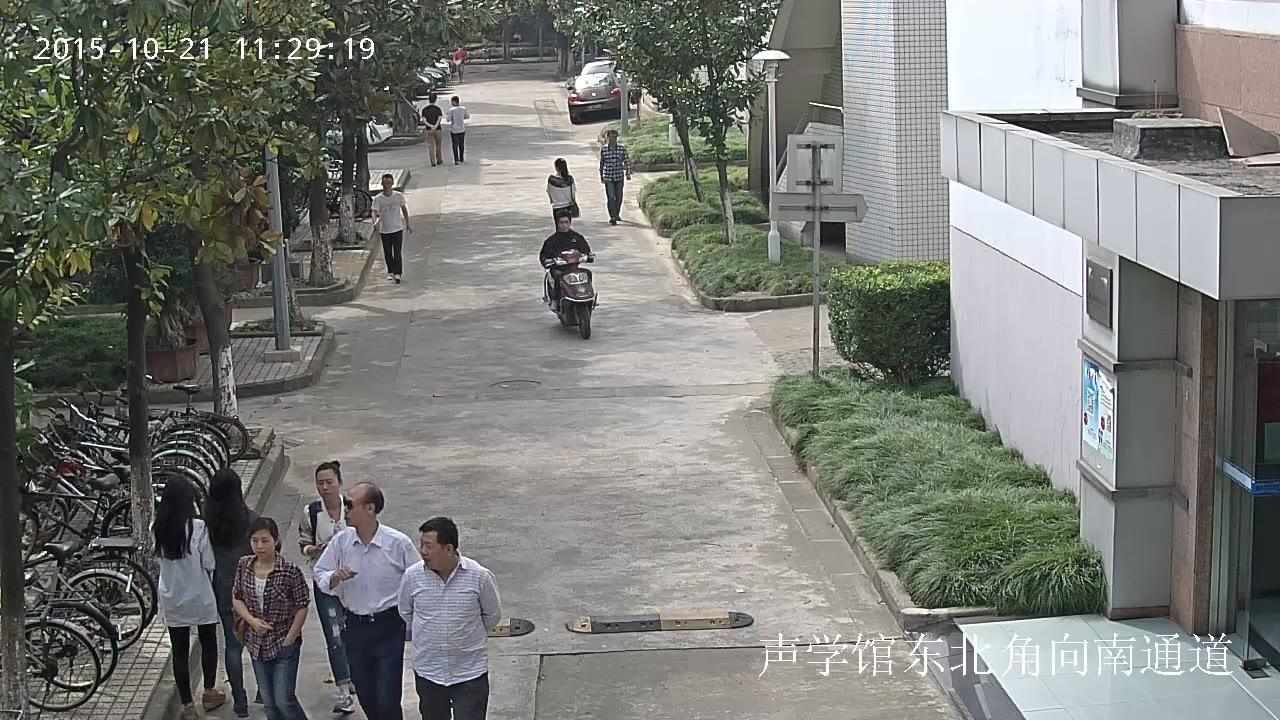person: (312, 481, 424, 720), (396, 514, 504, 720), (148, 474, 227, 720), (229, 517, 310, 720), (297, 459, 360, 715), (204, 466, 264, 719), (538, 210, 599, 338), (538, 210, 594, 310), (371, 173, 413, 283), (598, 129, 630, 224), (545, 158, 581, 231), (420, 92, 443, 166), (445, 95, 469, 164), (454, 47, 467, 82)
